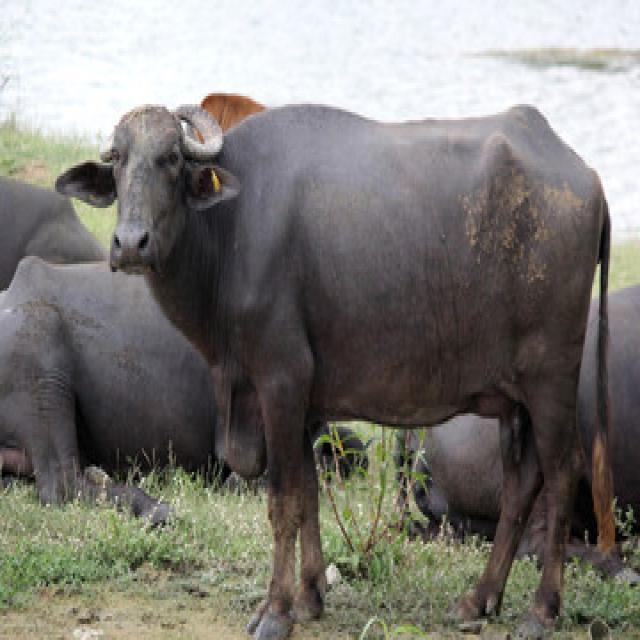Buffalo: (53, 91, 617, 637)
